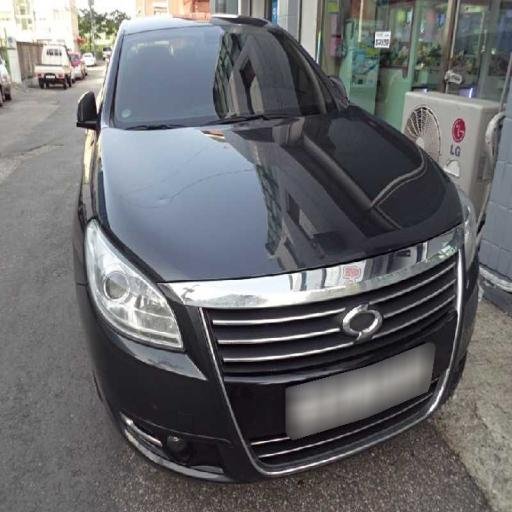dent: (121, 156, 217, 246)
